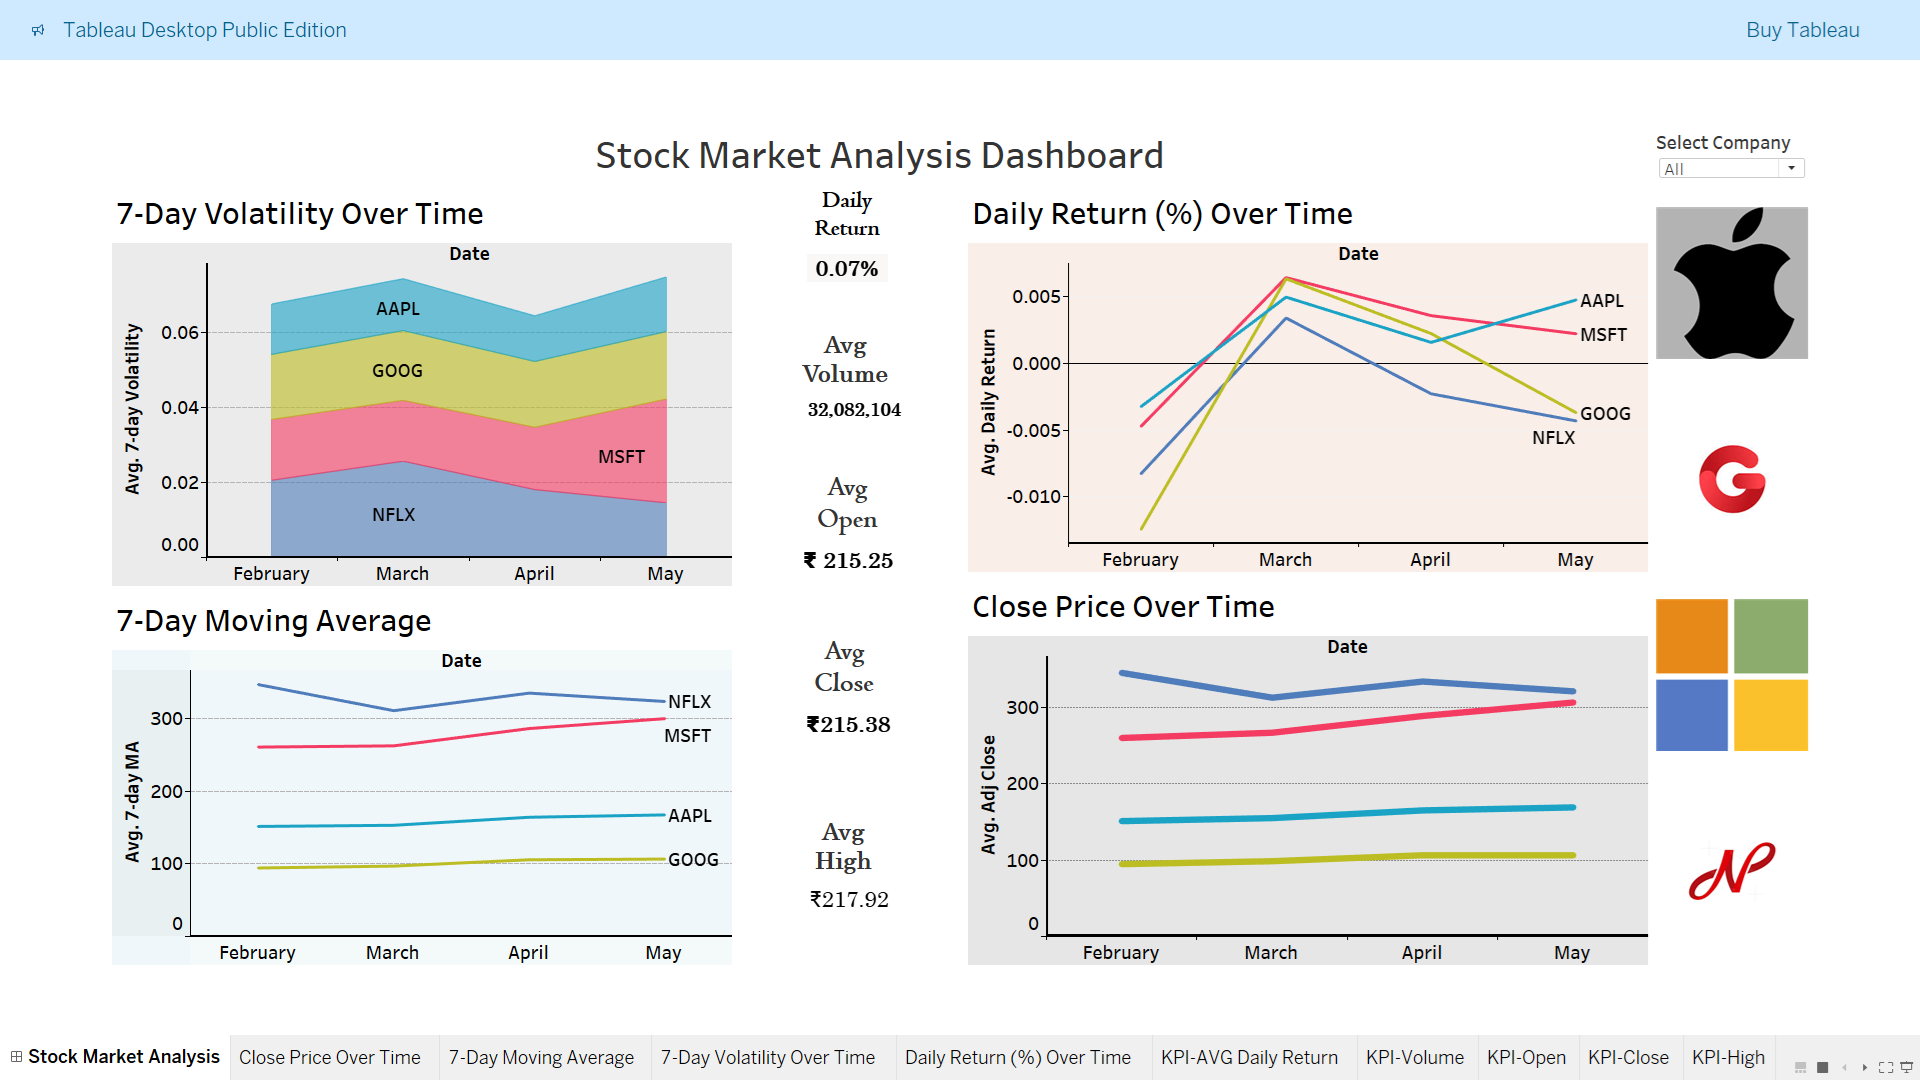

Layout of this report page (visuals, bound fields, positions):
{"tool":"tableau","page":{"name":"Stock Market Analysis","canvas":[1000,1000],"units":"permille","ordinal":0},"visuals":[{"type":"title","box":[4.7,11.8,897.7,85.2]},{"type":"parameter","param":"[Parameters].[Parameter 1]","box":[902.3,11.8,93,88.1]},{"type":"worksheet","title":"7-Day Volatility Over Time","mark":"Area","rows":["7-day Volatility"],"cols":["Date"],"box":[4.7,96.9,365.1,461.6]},{"type":"worksheet","title":"KPI-AVG Daily Return","mark":"Automatic","box":[369.8,96.9,132.6,156.9]},{"type":"worksheet","title":"Daily Return (%) Over Time","mark":"Automatic","rows":["Daily Return"],"cols":["Date"],"box":[502.3,96.9,400,445.4]},{"type":"image","param":"C:/Users/apurv/Downloads/images (1).png","box":[902.3,99.9,93,222.1]},{"type":"worksheet","title":"KPI-Volume","mark":"Automatic","box":[369.8,253.8,132.6,165.3]},{"type":"image","param":"C:/Users/apurv/Downloads/download (2).jpeg","box":[902.3,321.9,93,222.1]},{"type":"worksheet","title":"KPI-Open","mark":"Automatic","box":[369.8,419.1,132.6,186.2]},{"type":"worksheet","title":"Close Price Over Time","mark":"Automatic","rows":["Adj Close"],"cols":["Date"],"box":[502.3,542.3,400,445.9]},{"type":"image","param":"C:/Users/apurv/Downloads/download.png","box":[902.3,544,93,222.1]},{"type":"worksheet","title":"7-Day Moving Average","mark":"Automatic","rows":["7-day MA"],"cols":["Date"],"box":[4.7,558.5,365.1,429.8]},{"type":"worksheet","title":"KPI-Close","mark":"Automatic","box":[369.8,605.3,132.6,205.3]},{"type":"image","param":"C:/Users/apurv/Downloads/download (6).png","box":[902.3,766.1,93,222.1]},{"type":"worksheet","title":"KPI-High","mark":"Automatic","box":[369.8,810.5,132.6,177.7]}]}

Visuals, with their boxes on the dashboard's canvas, which has no fixed pixel size, in thousandths of its width and height (x1, y1, x2, y2). These are canvas units, not pixel positions in the 1920x1080 screenshot, which may show the page scaled, cropped or inside an application window:
title: bbox(5, 12, 902, 97)
parameter: bbox(902, 12, 995, 100)
"7-Day Volatility Over Time" worksheet (Area marks): bbox(5, 97, 370, 558)
"KPI-AVG Daily Return" worksheet: bbox(370, 97, 502, 254)
"Daily Return (%) Over Time" worksheet: bbox(502, 97, 902, 542)
image: bbox(902, 100, 995, 322)
"KPI-Volume" worksheet: bbox(370, 254, 502, 419)
image: bbox(902, 322, 995, 544)
"KPI-Open" worksheet: bbox(370, 419, 502, 605)
"Close Price Over Time" worksheet: bbox(502, 542, 902, 988)
image: bbox(902, 544, 995, 766)
"7-Day Moving Average" worksheet: bbox(5, 558, 370, 988)
"KPI-Close" worksheet: bbox(370, 605, 502, 811)
image: bbox(902, 766, 995, 988)
"KPI-High" worksheet: bbox(370, 810, 502, 988)
